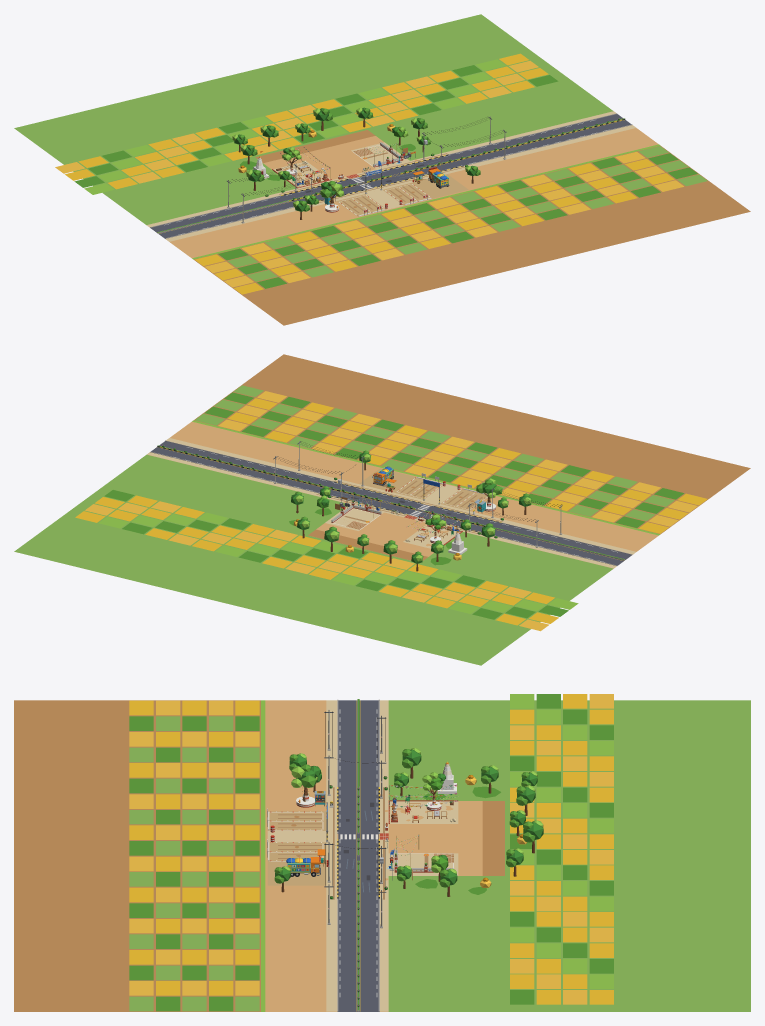
Rendered from street_v3.glb.
The picture shows the model from 3 angles, top to bottom: view 1: azimuth 30°, elevation 25°; view 2: azimuth 150°, elevation 25°; view 3: azimuth 270°, elevation 25°; orthographic projection. The views are drawn at different scales.
Parts seen in each view (by area): view 1: street_v3; view 2: street_v3; view 3: street_v3.
Part boxes in pixels (x1,y1,x2,y2): street_v3: [14, 14, 750, 325]; street_v3: [14, 354, 750, 665]; street_v3: [14, 694, 750, 1011].
Bounding box in the file's own units: 102 × 6.17 × 100.
Materials: 2 (1 with a texture image).
